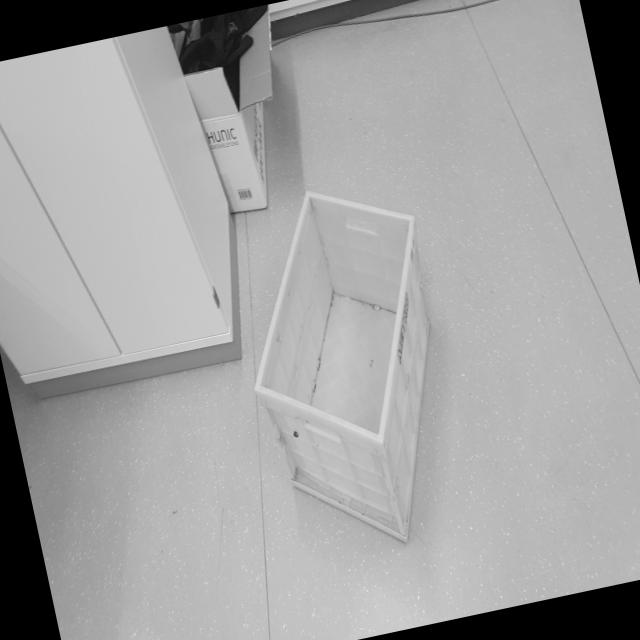box: (212, 160, 489, 581)
